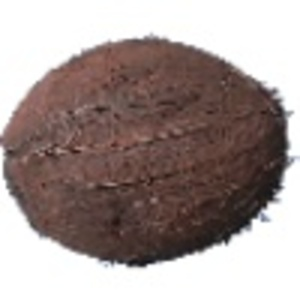coco: (1, 38, 300, 268)
